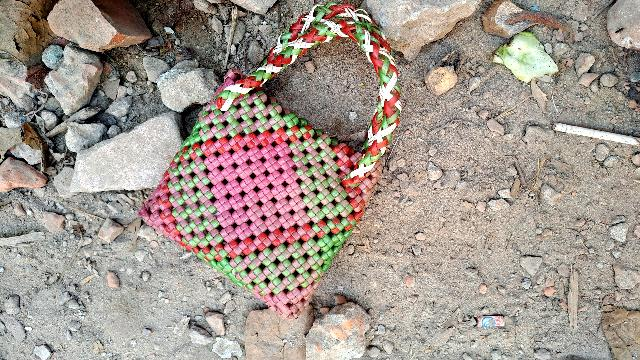hardplastic: (129, 62, 392, 321)
